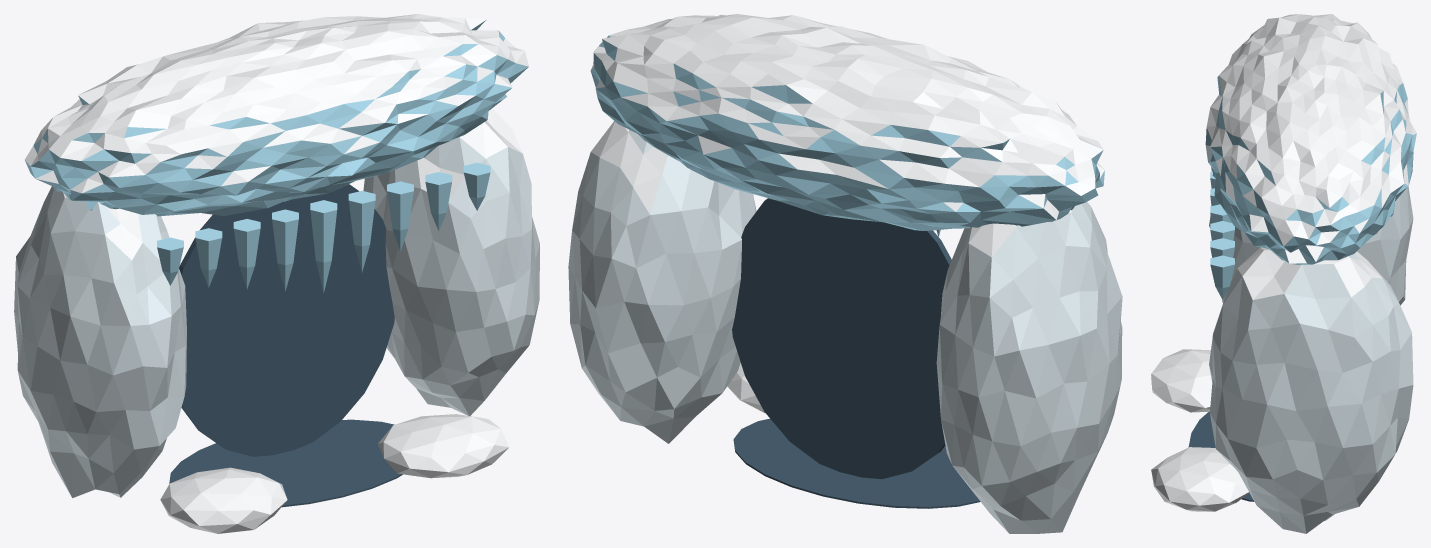
Rendered from IceCaveMouth.glb.
The picture shows the model from 3 angles, left to right: view 1: azimuth 30°, elevation 25°; view 2: azimuth 150°, elevation 25°; view 3: azimuth 270°, elevation 25°; orthographic projection. The views are drawn at different scales.
Parts seen in each view (by area): view 1: IceCaveMouth; view 2: IceCaveMouth; view 3: IceCaveMouth.
Part boxes in pixels (x1,y1,x2,y2): IceCaveMouth: [14, 14, 539, 533]; IceCaveMouth: [568, 14, 1122, 533]; IceCaveMouth: [1151, 14, 1416, 533].
Bounding box in the file's own units: 15.2 × 12.2 × 7.8.
